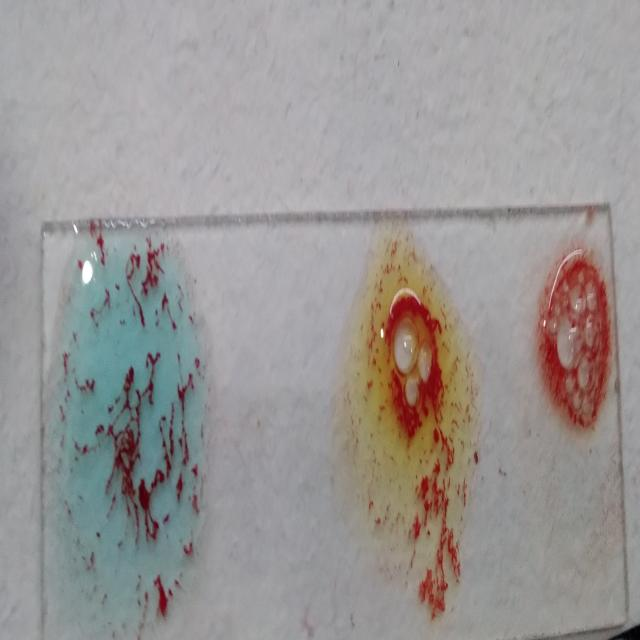A: (55, 235, 202, 631)
B: (342, 221, 475, 632)
D: (539, 234, 612, 443)
